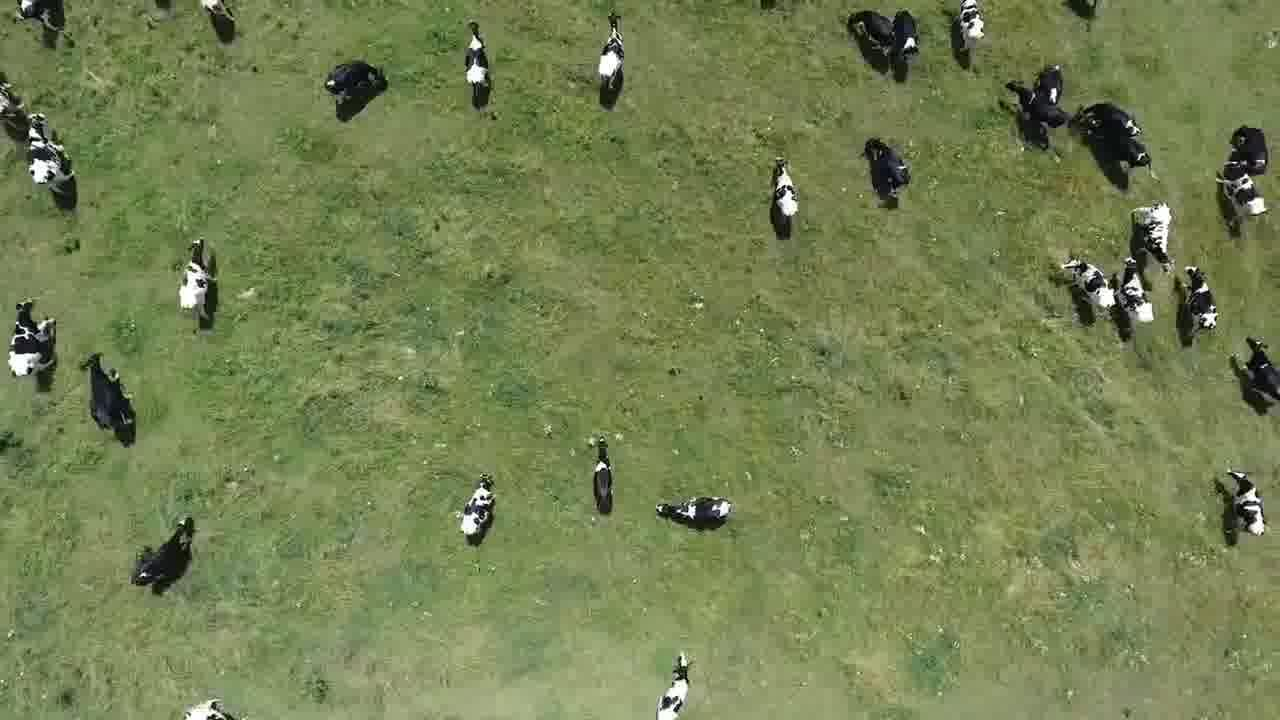cow: (77, 349, 138, 447), (1084, 116, 1163, 189), (2, 295, 67, 383), (23, 111, 79, 203), (1211, 157, 1273, 238), (131, 513, 196, 590), (173, 234, 222, 329), (315, 56, 393, 112), (1057, 253, 1120, 321), (1127, 196, 1177, 280), (1005, 77, 1070, 141), (859, 135, 918, 203), (456, 467, 502, 547), (1219, 468, 1270, 540), (650, 493, 737, 535), (1178, 265, 1222, 345), (1114, 254, 1160, 327), (1237, 333, 1280, 411), (586, 432, 623, 520), (458, 18, 495, 104), (594, 8, 629, 98), (1070, 93, 1141, 136), (653, 650, 696, 720), (765, 153, 801, 228), (15, 0, 77, 42), (846, 6, 896, 54), (889, 5, 921, 68), (1229, 124, 1269, 174), (957, 0, 987, 65), (1033, 60, 1068, 107), (179, 694, 234, 720), (0, 77, 29, 126), (200, 0, 244, 29)
